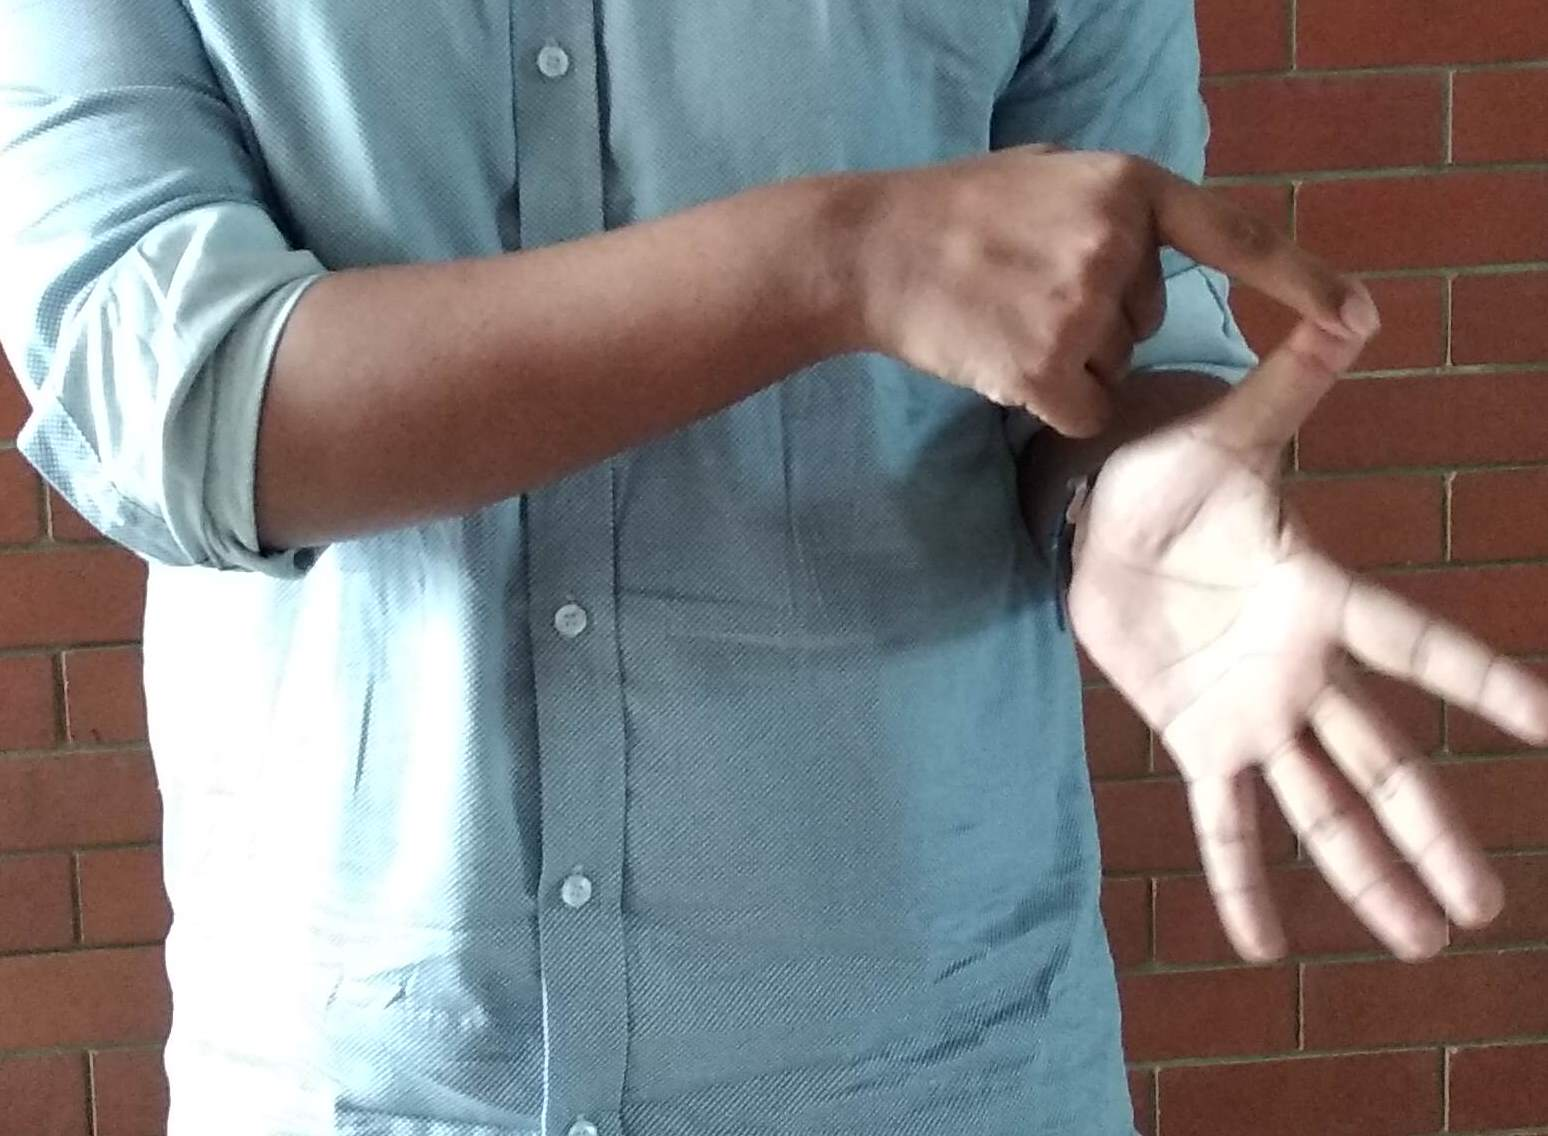a: (1014, 144, 1548, 979)
